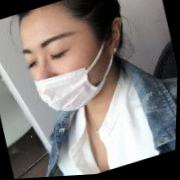WRONG: (18, 9, 118, 123)
